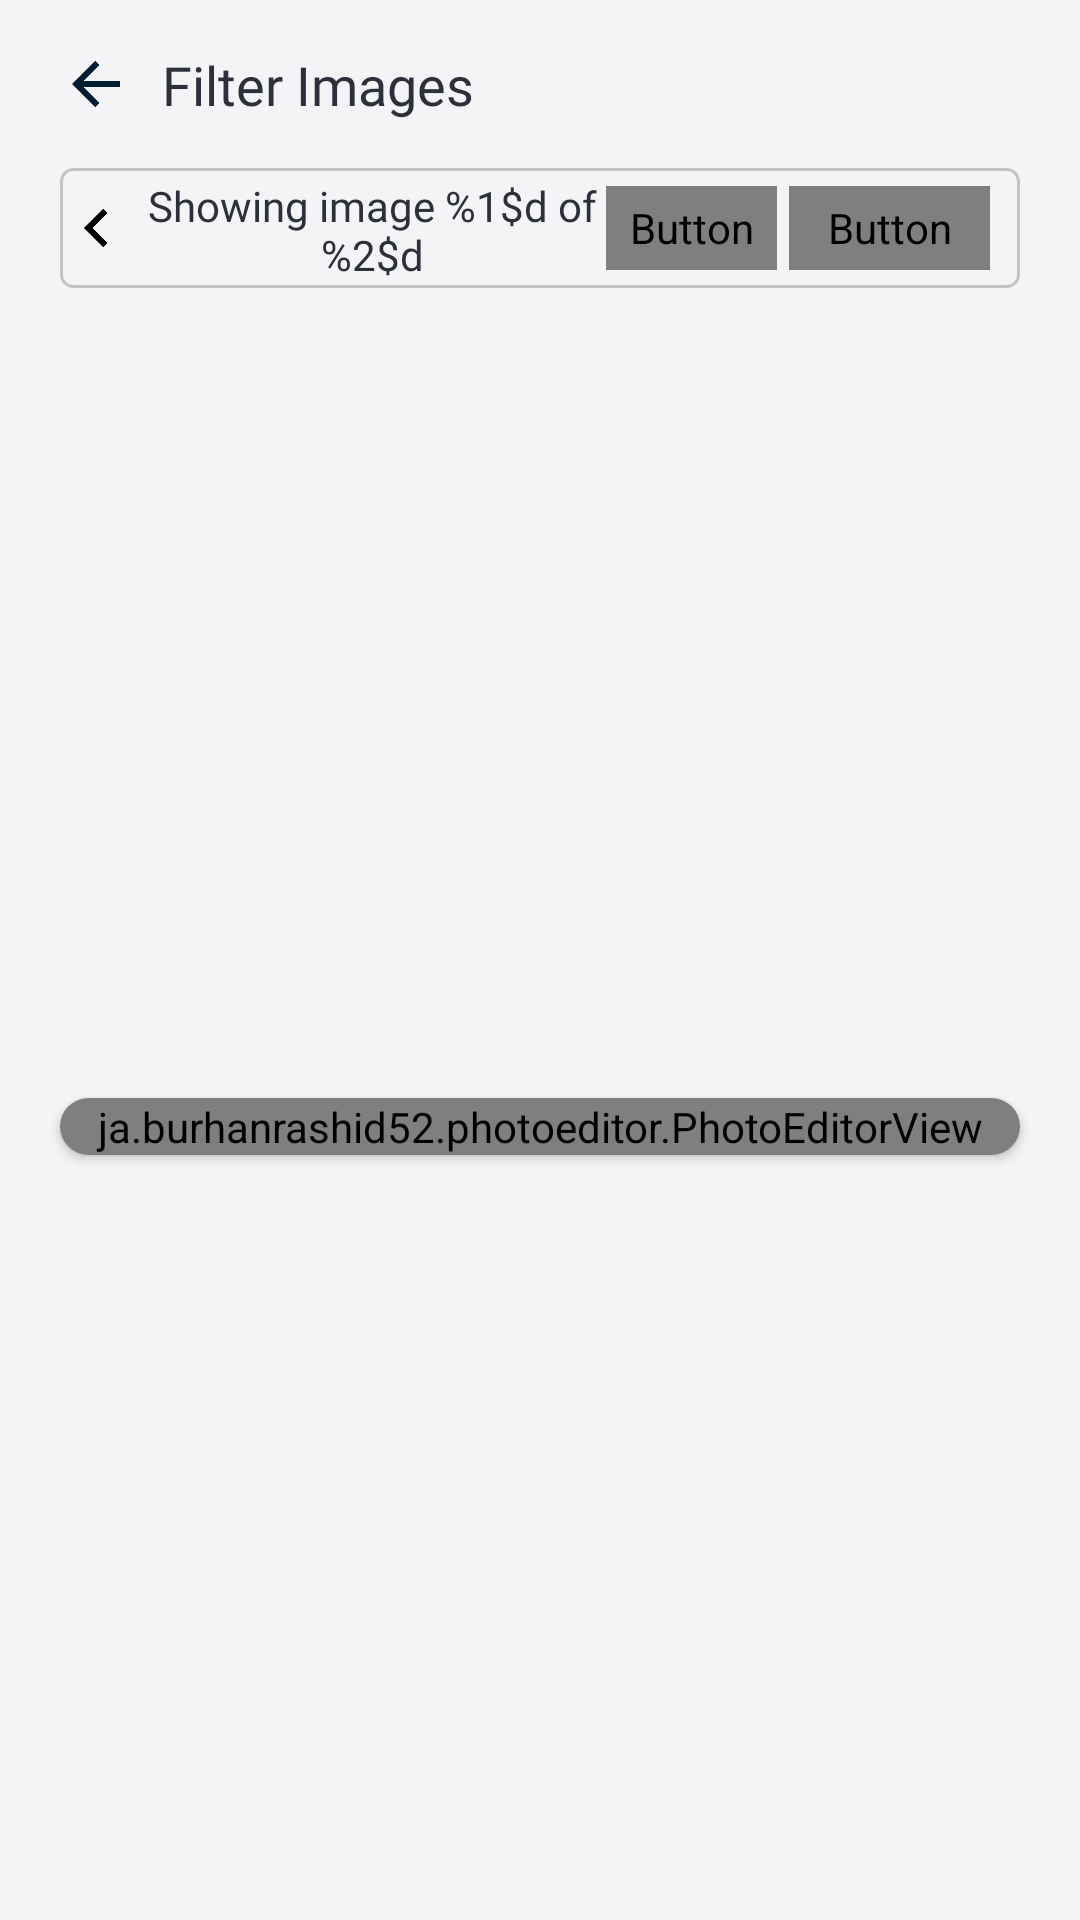

Icons on this 1080px x 1920px Android screen, each with its box as (x1, y1, x2, y2):
back arrow: (72, 61, 120, 107)
